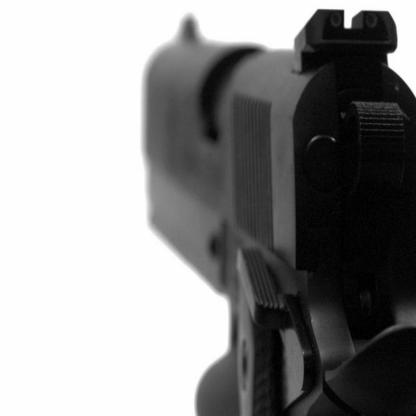gun: (132, 13, 416, 415)
